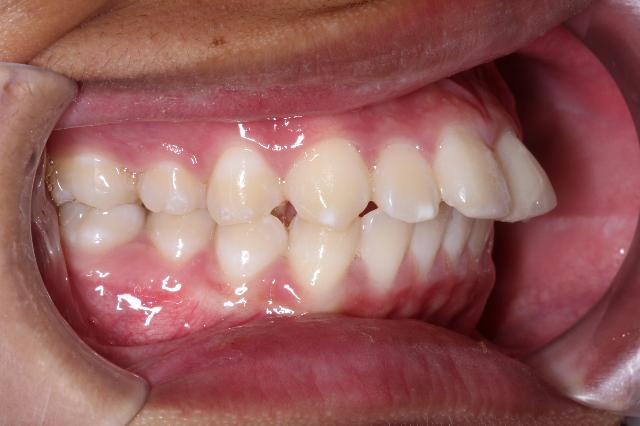canine class II 3/4: (215, 133, 372, 295)
molar class II 1/4: (42, 147, 148, 263)
